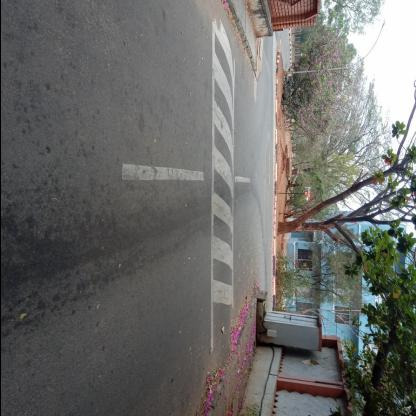speed-bumps: (202, 0, 244, 359)
